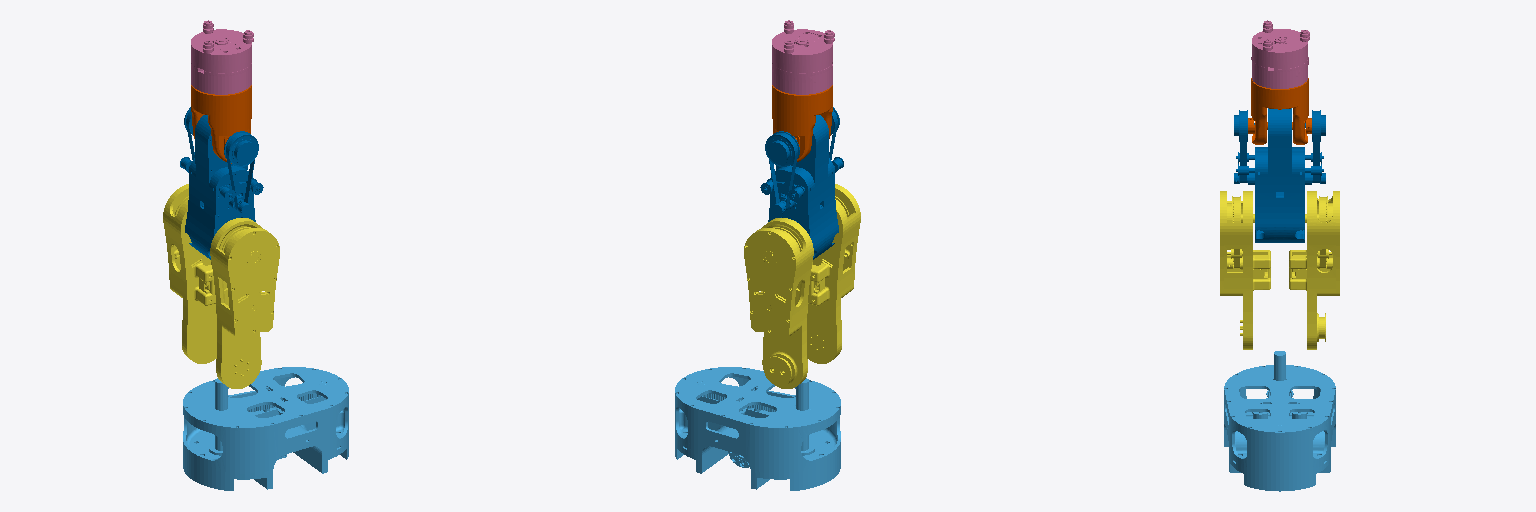
The robot description file, URDF, robot "robot_arm_5axis_rail_centric":
<?xml version="1.0"?>
<!--
  robot_arm_5axis_rail_centric.urdf
  기존 5축 팔 + 리니어 레일(prismatic joint_rail, Y축, 0~0.9 m).

  레일 제원: 1600 PPR, 리드 10 mm -> 1 m = 100회전 = 160,000 스텝 (500 RPM 에서 12.0 s)
  base link 가 link1 -> rail 로 바뀌었으므로 PyBullet 관절 인덱스가 하나 밀린다.
  충돌검사는 팔 전용 URDF(robot_arm_5axis_centric.urdf)를 그대로 쓴다.
-->
<robot name="robot_arm_5axis_rail_centric">

  <link name="rail">
    <visual>
      <origin xyz="0 0 0.035" rpy="0 0 0"/>
      <geometry>
        <mesh filename="robot_meshes/rail.stl" scale="0.001 0.001 0.001"/>
      </geometry>
    </visual>
  </link>

  <link name="link1">
    <visual>
      <origin xyz="0 0 0" rpy="0 0 0"/>
      <geometry>
        <mesh filename="robot_meshes/link1.stl" scale="0.001 0.001 0.001"/>
      </geometry>
    </visual>
  </link>

  <link name="link2">
    <visual>
      <origin xyz="0 0 0" rpy="0 0 0"/>
      <geometry>
        <mesh filename="robot_meshes/link2.stl" scale="0.001 0.001 0.001"/>
      </geometry>
    </visual>
  </link>

  <link name="link3">
    <visual>
      <origin xyz="0 0 0" rpy="0 0 0"/>
      <geometry>
        <mesh filename="robot_meshes/link3.stl" scale="0.001 0.001 0.001"/>
      </geometry>
    </visual>
  </link>

  <link name="link4">
    <visual>
      <origin xyz="0 0 0" rpy="0 0 0"/>
      <geometry>
        <mesh filename="robot_meshes/link4.stl" scale="0.001 0.001 0.001"/>
      </geometry>
    </visual>
  </link>

  <link name="link5">
    <visual>
      <origin xyz="0 0 0" rpy="0 0 0"/>
      <geometry>
        <mesh filename="robot_meshes/link5.stl" scale="0.001 0.001 0.001"/>
      </geometry>
    </visual>
  </link>

  <link name="centric">
    <visual>
      <origin xyz="0 0 0" rpy="0 0 0"/>
      <geometry>
        <mesh filename="robot_meshes/centric.stl" scale="0.001 0.001 0.001"/>
      </geometry>
    </visual>
  </link>

  <link name="centric_end"/>

  <!-- ===== JOINTS ===== -->

<joint name="joint_rail" type="prismatic">
    <origin xyz="0.0125 0.09455 0.008" rpy="0 0 0"/>
    <parent link="rail"/><child link="link1"/>
    <axis xyz="0 1 0"/> <!-- Y축 방향으로 이동 -->
    <limit lower="0.0" upper="0.9" effort="100.0" velocity="5.0"/>
</joint>

  <joint name="joint1" type="revolute">
    <parent link="link1"/><child link="link2"/>
    <origin xyz="-0.0945 0 0.105" rpy="0 0 0"/>
    <axis xyz="0 0 1"/>
    <limit lower="-3.14" upper="3.14" effort="10" velocity="1"/>
  </joint>

  <joint name="joint2" type="revolute">
    <parent link="link2"/><child link="link3"/>
    <origin xyz="0 0 0.09" rpy="0 0 0"/>
    <axis xyz="0 1 0"/>
    <limit lower="-3.14" upper="3.14" effort="10" velocity="1"/>
  </joint>

  <joint name="joint3" type="revolute">
    <parent link="link3"/><child link="link4"/>
    <origin xyz="0 0 0.195" rpy="0 0 0"/>
    <axis xyz="0 1 0"/>
    <limit lower="-3.14" upper="3.14" effort="10" velocity="1"/>
  </joint>

  <joint name="joint4" type="revolute">
    <parent link="link4"/><child link="link5"/>
    <origin xyz="0 0 0.165" rpy="0 0 0"/>
    <axis xyz="0 1 0"/>
    <limit lower="-3.14" upper="3.14" effort="10" velocity="1"/>
  </joint>

  <joint name="joint5" type="revolute">
    <parent link="link5"/><child link="centric"/>
    <origin xyz="0 0 0.087" rpy="0 0 0"/>
    <axis xyz="0 0 1"/>
    <limit lower="-3.14" upper="3.14" effort="10" velocity="1"/>
  </joint>

  <joint name="centric_fixed" type="fixed">
    <parent link="centric"/><child link="centric_end"/>
    <origin xyz="0 0 0.1245" rpy="0 0 0"/>
  </joint>

</robot>

--- Facts derived from the render (not from the file) ---
3 views of the same robot in one strip: view 1: azimuth 30°, elevation 25°; view 2: azimuth 150°, elevation 25°; view 3: azimuth 270°, elevation 25° (orthographic).
Model robot_arm_5axis_rail_centric with 8 links and 7 joints (5 revolute, 1 prismatic, 1 fixed), rooted at rail, posed every joint at zero.
Links seen in each view (by area): view 1: link1, link3, link4, centric, link5; view 2: link1, link3, link4, centric, link5; view 3: link1, link3, link4, centric, link5.
Link boxes in pixels (x1=…): link1: x1=183, y1=367, x2=348, y2=490; link3: x1=163, y1=184, x2=279, y2=388; link4: x1=180, y1=107, x2=263, y2=259; centric: x1=191, y1=20, x2=253, y2=94; link5: x1=191, y1=85, x2=251, y2=163; link1: x1=675, y1=367, x2=840, y2=490; link3: x1=744, y1=184, x2=860, y2=388; link4: x1=760, y1=107, x2=843, y2=259; centric: x1=772, y1=20, x2=834, y2=94; link5: x1=772, y1=85, x2=832, y2=161; link1: x1=1224, y1=351, x2=1335, y2=491; link3: x1=1220, y1=191, x2=1339, y2=349; link4: x1=1234, y1=108, x2=1325, y2=242; centric: x1=1251, y1=20, x2=1309, y2=88; link5: x1=1248, y1=78, x2=1311, y2=144.
Size in the robot's own frame: 0.2595 by 0.194 by 0.726 metres.
Meshes: 7 distinct files referenced, 5 mesh visuals loaded (5 binary STL); not drawn: 2 (reference not matched to a file when rendering).
